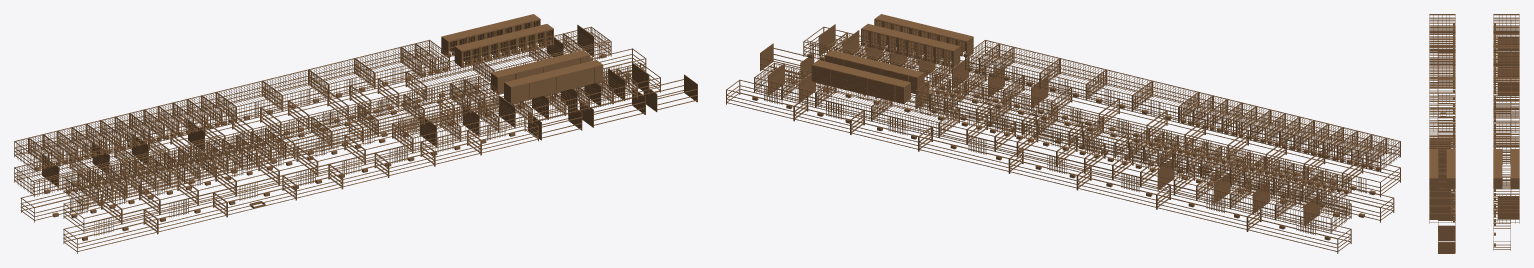
File: arca-interior-runtime-v1.glb
3 renders of one model, left to right at view 1: azimuth 30°, elevation 25°; view 2: azimuth 150°, elevation 25°; view 3: azimuth 270°, elevation 25°, orthographic. The views are drawn at different scales.
Visible parts, largest first — view 1: SUP-BB-15__Aguias.004, SUP-BB-18__Grous.004, SUP-BB-17__Pelicanos.004, SUP-BE-18__Flamingos.004, SUP-BE-16__Garcas.004, SUP-BE-17__Cormoroes.004, SUP-BB-16__Cegonhas.004, SUP-BE-15__Abutres.004, MED-BE-13__Avestruzes.004, MED-BB-09__Gorilas.004, MED-BE-01__Ursos-pardos.004, INF-BB-01__Elefantes.004 (+74 smaller); view 2: MED-BE-13__Avestruzes.004, MED-BE-01__Ursos-pardos.004, SUP-BE-17__Cormoroes.004, SUP-BE-18__Flamingos.004, SUP-BE-15__Abutres.004, SUP-BE-16__Garcas.004, SUP-BB-16__Cegonhas.004, SUP-BB-17__Pelicanos.004, SUP-BB-18__Grous.004, SUP-BB-15__Aguias.004, MED-BE-14__Emas.004, INF-BE-01__Bovinos.004 (+71 smaller); view 3: Reserva_agua.002, SUP-BB-18__Grous.004, SUP-BE-18__Flamingos.004, SUP-BB-17__Pelicanos.004, SUP-BE-17__Cormoroes.004, SUP-BB-16__Cegonhas.004, SUP-BE-16__Garcas.004, MED-BB-16__HABITAT.003, MED-BE-16__HABITAT.003, MED-BE-16__Macacos.004, SUP-BB-15__Aguias.004, SUP-BE-15__Abutres.004 (+79 smaller).
Boxes of the visible parts, <box> form: SUP-BB-15__Aguias.004: <box>265,116,331,158</box>; SUP-BB-18__Grous.004: <box>404,83,470,124</box>; SUP-BB-17__Pelicanos.004: <box>358,94,424,136</box>; SUP-BE-18__Flamingos.004: <box>355,47,421,88</box>; SUP-BE-16__Garcas.004: <box>262,69,328,110</box>; SUP-BE-17__Cormoroes.004: <box>308,58,374,99</box>; SUP-BB-16__Cegonhas.004: <box>312,105,378,147</box>; SUP-BE-15__Abutres.004: <box>216,80,282,122</box>; MED-BE-13__Avestruzes.004: <box>406,60,493,101</box>; MED-BB-09__Gorilas.004: <box>393,112,460,152</box>; MED-BE-01__Ursos-pardos.004: <box>14,154,90,197</box>; INF-BB-01__Elefantes.004: <box>63,209,157,253</box>; MED-BE-13__Avestruzes.004: <box>871,96,958,137</box>; MED-BE-01__Ursos-pardos.004: <box>1275,190,1351,233</box>; SUP-BE-17__Cormoroes.004: <box>990,94,1056,136</box>; SUP-BE-18__Flamingos.004: <box>944,83,1010,124</box>; SUP-BE-15__Abutres.004: <box>1083,116,1149,158</box>; SUP-BE-16__Garcas.004: <box>1037,105,1102,147</box>; SUP-BB-16__Cegonhas.004: <box>1086,69,1152,110</box>; SUP-BB-17__Pelicanos.004: <box>1040,58,1106,99</box>; SUP-BB-18__Grous.004: <box>994,47,1059,88</box>; SUP-BB-15__Aguias.004: <box>1132,80,1198,122</box>; MED-BE-14__Emas.004: <box>815,85,891,121</box>; INF-BE-01__Bovinos.004: <box>1247,207,1351,253</box>; Reserva_agua.002: <box>1438,229,1455,253</box>; SUP-BB-18__Grous.004: <box>1429,122,1455,143</box>; SUP-BE-18__Flamingos.004: <box>1493,122,1519,143</box>; SUP-BB-17__Pelicanos.004: <box>1429,107,1455,128</box>; SUP-BE-17__Cormoroes.004: <box>1493,107,1519,128</box>; SUP-BB-16__Cegonhas.004: <box>1429,92,1455,113</box>; SUP-BE-16__Garcas.004: <box>1493,92,1519,113</box>; MED-BB-16__HABITAT.003: <box>1429,206,1451,221</box>; MED-BE-16__HABITAT.003: <box>1497,206,1519,221</box>; MED-BE-16__Macacos.004: <box>1493,205,1519,223</box>; SUP-BB-15__Aguias.004: <box>1429,78,1455,99</box>; SUP-BE-15__Abutres.004: <box>1493,78,1519,99</box>.
Bounding box in the file's own units: 108 × 11.13 × 20.9.
